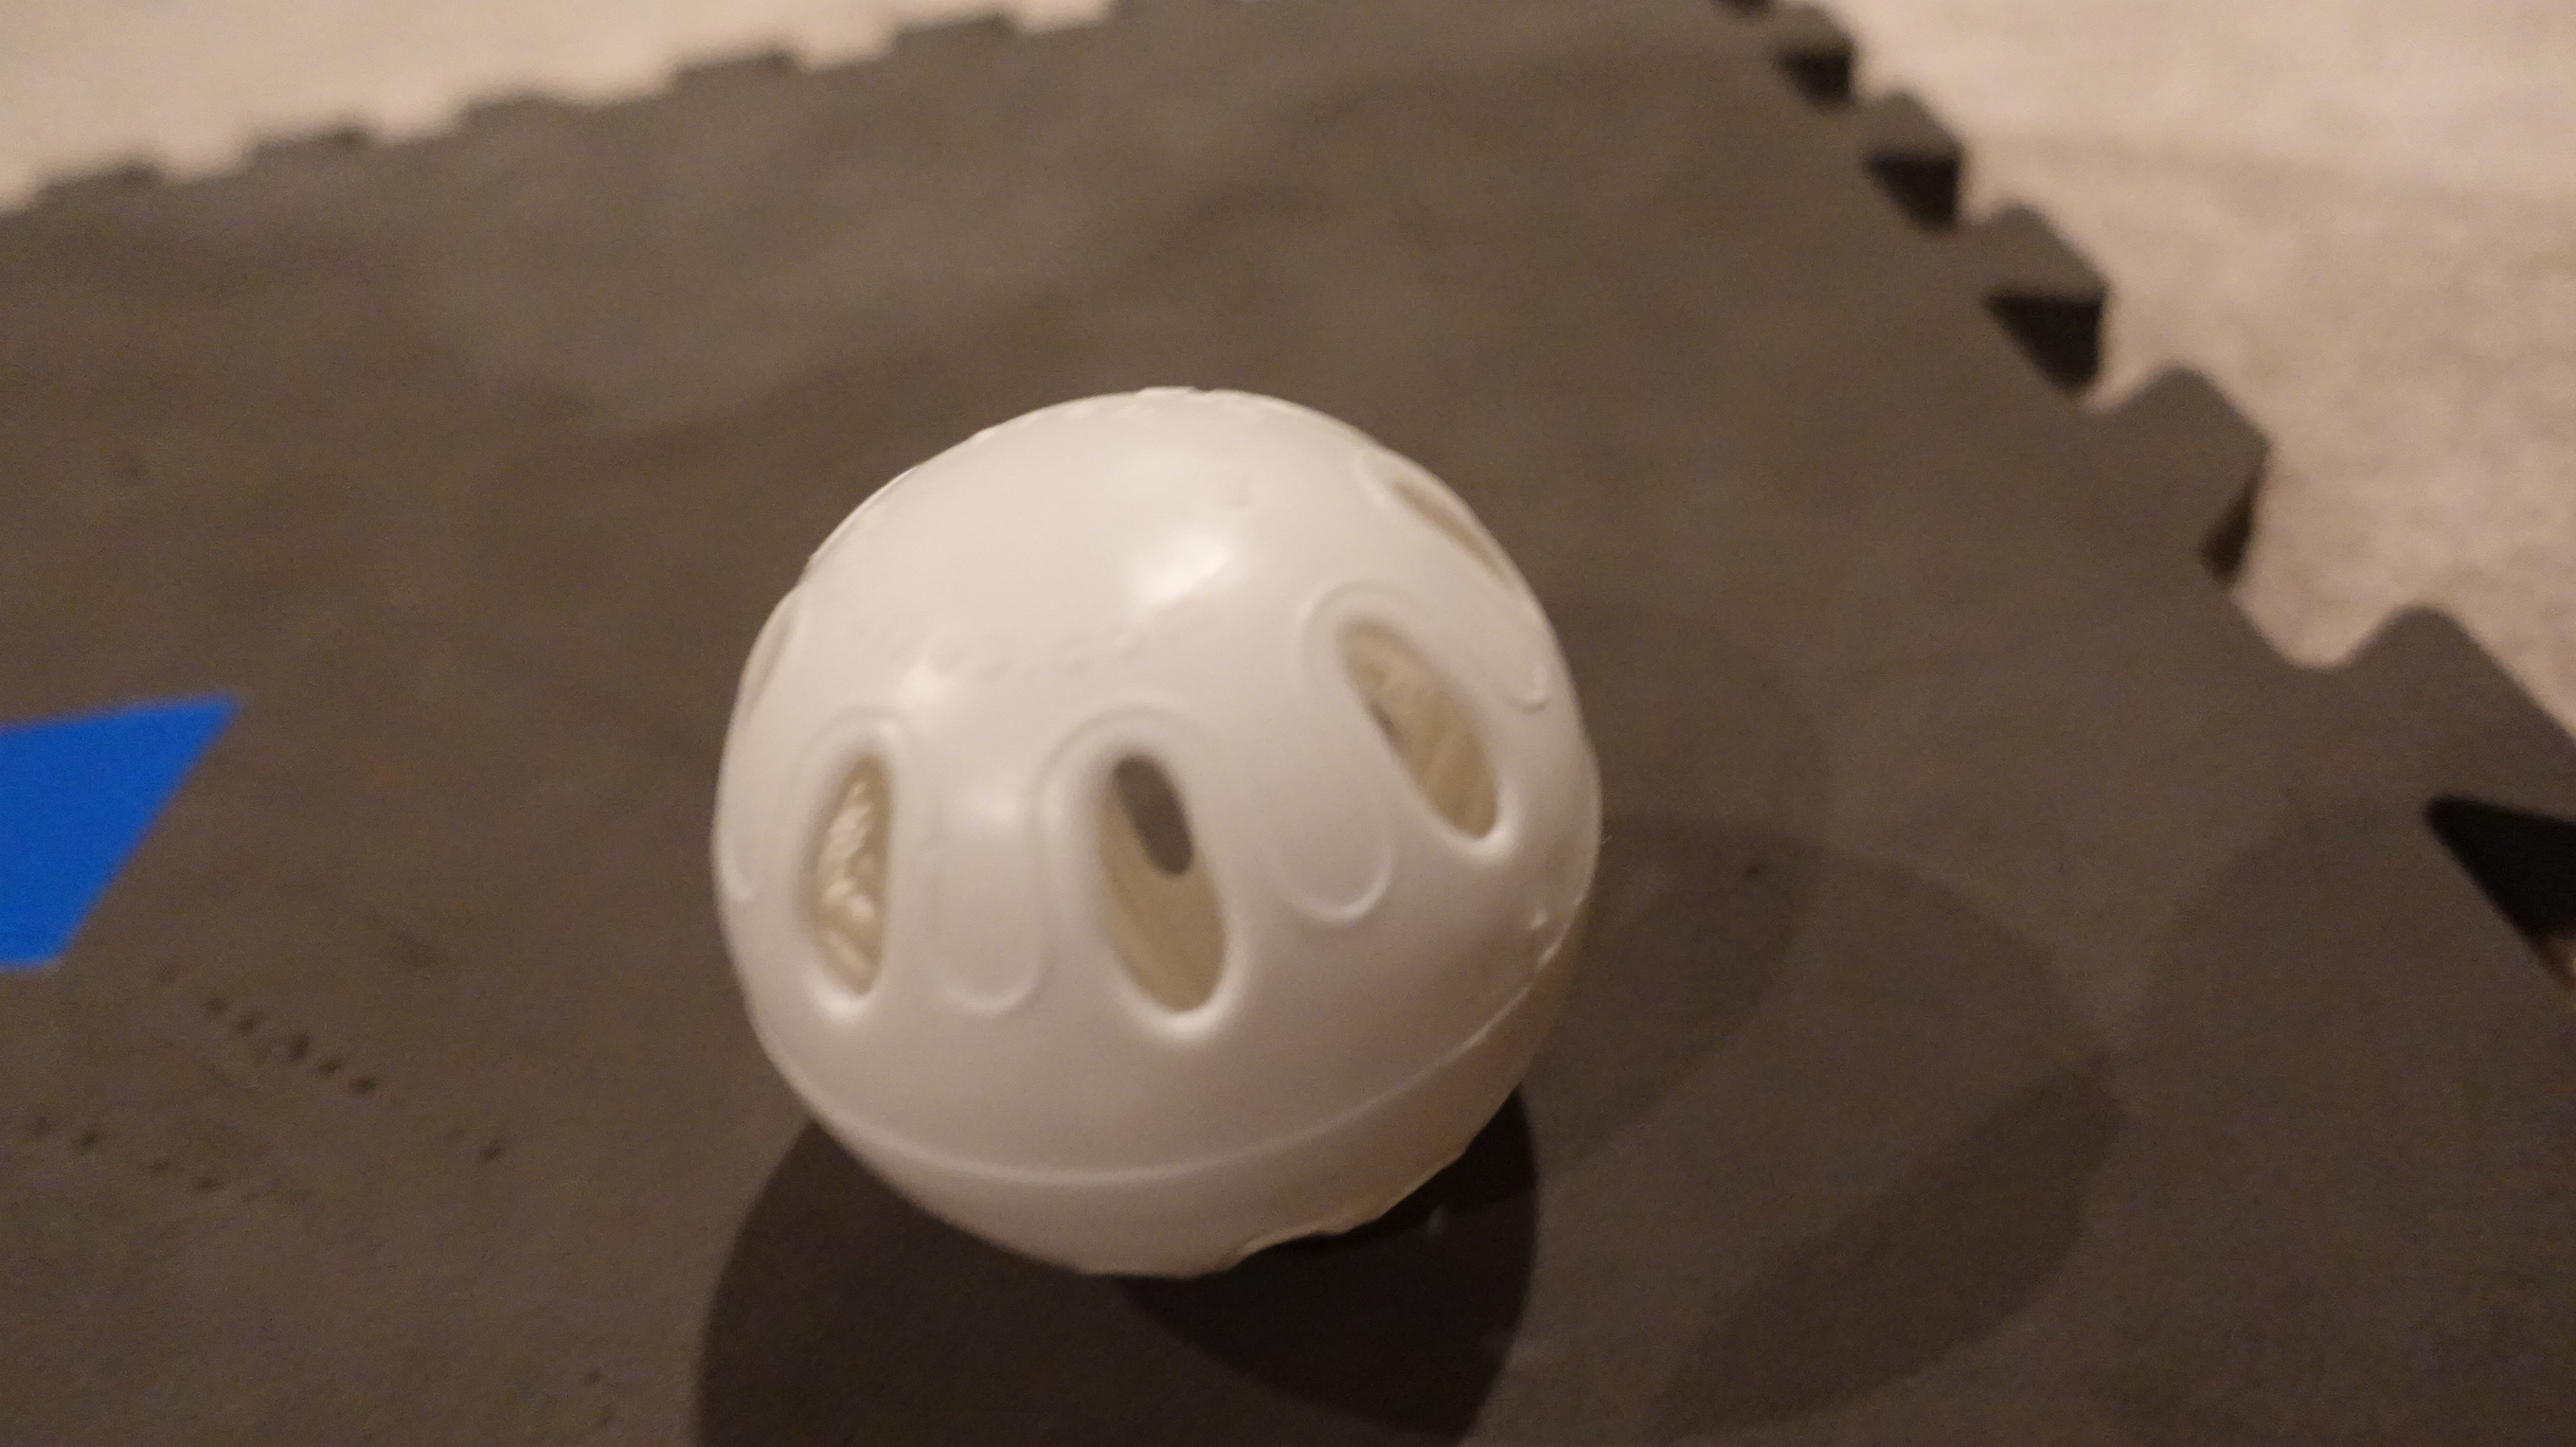silver: (708, 380, 1605, 1290)
